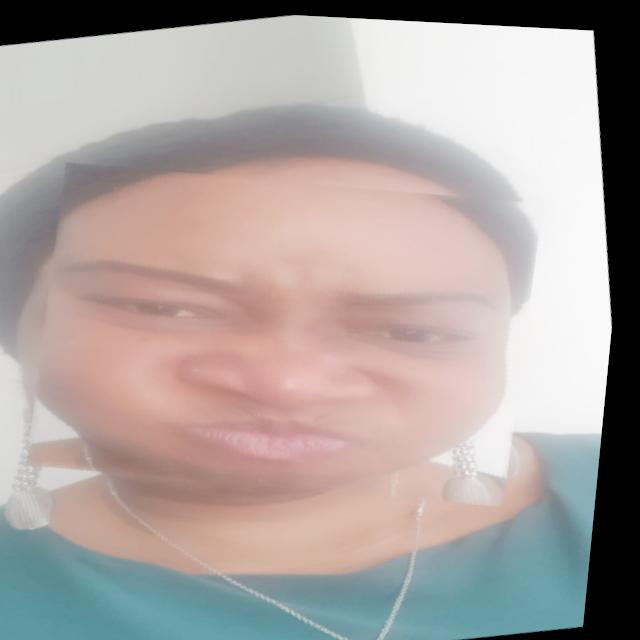sad: (0, 110, 582, 553)
